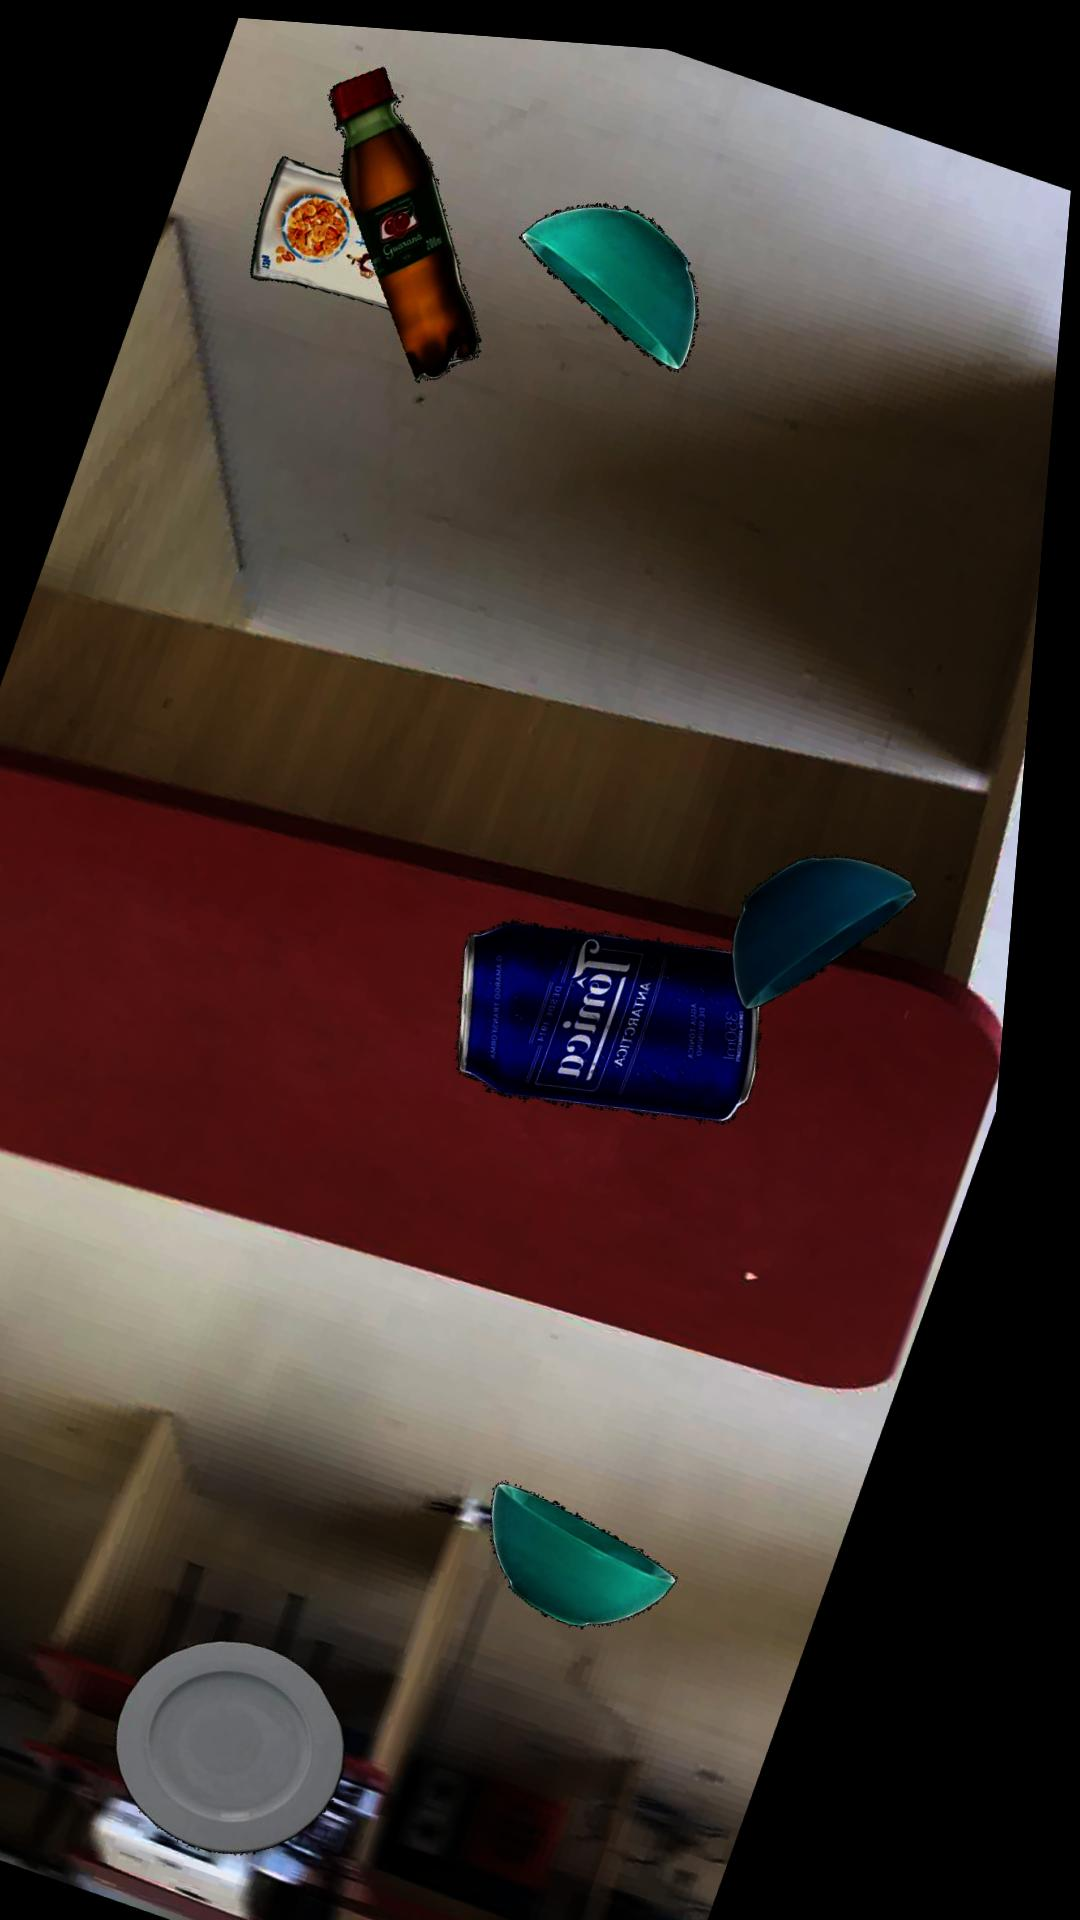bowl: (525, 195, 704, 361), (748, 844, 932, 998), (517, 1476, 703, 1621)
corn flakes: (256, 154, 394, 305)
guarana: (332, 63, 488, 378)
plate: (146, 1635, 376, 1850)
tonic: (475, 914, 778, 1114)
